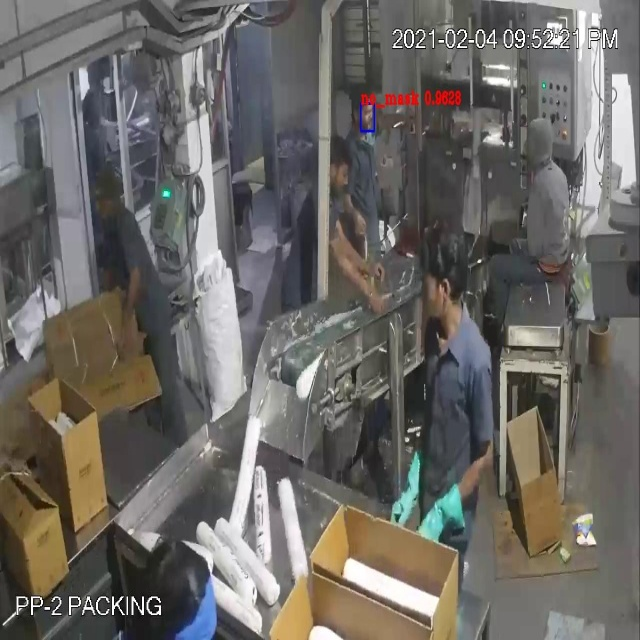Guantes: (419, 482, 468, 557), (390, 444, 422, 534)
Sin_guantes: (325, 226, 388, 324), (330, 208, 386, 282), (114, 258, 146, 367)
